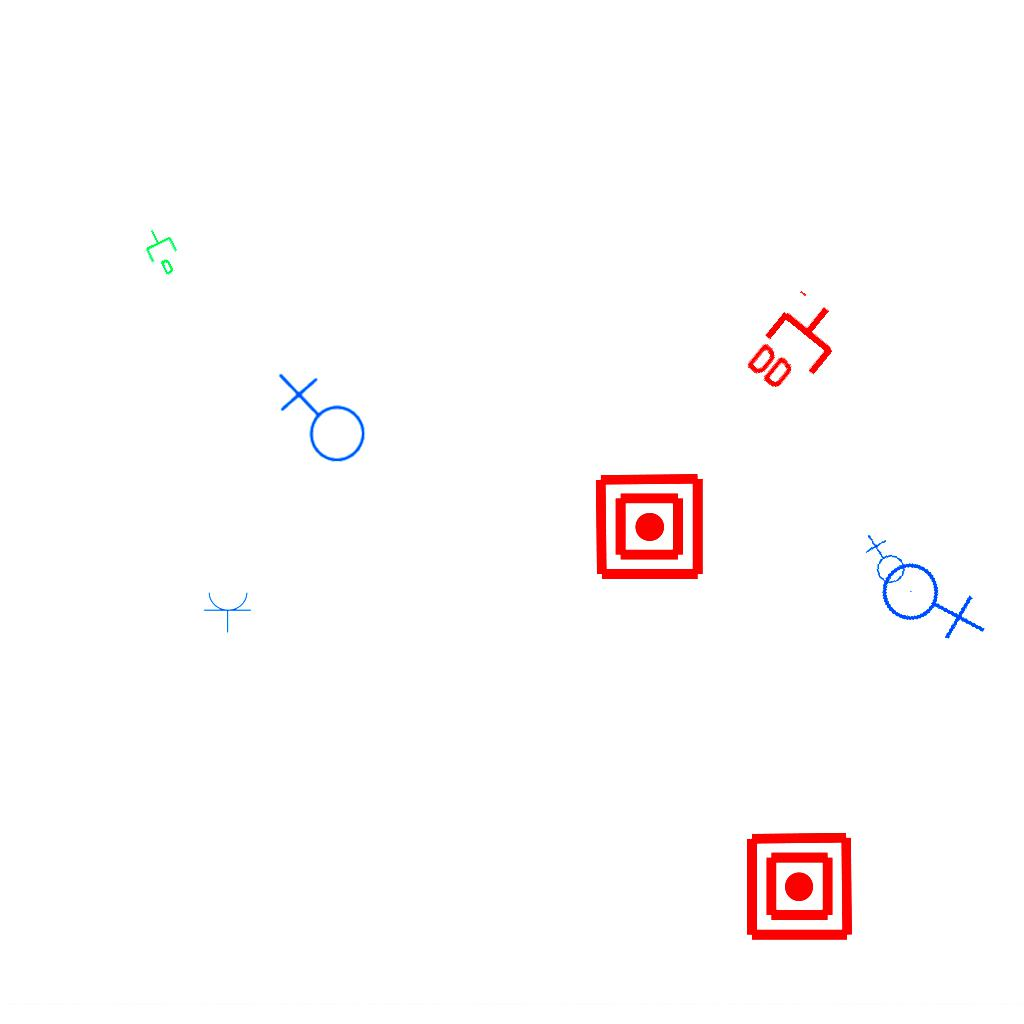Datenanschluss_einfach: (136, 221, 190, 281)
Datenanschluss_zweifach: (738, 285, 857, 410)
Elektroanschluss_allgemein_230V_Geraeteanschlussdose_230V: (870, 536, 991, 660), (273, 372, 367, 471), (855, 532, 912, 591)
NAM-Nichtautomatischer_Melder: (743, 830, 856, 943), (593, 470, 706, 583)
Schukosteckdose_einfach: (203, 590, 253, 633)
